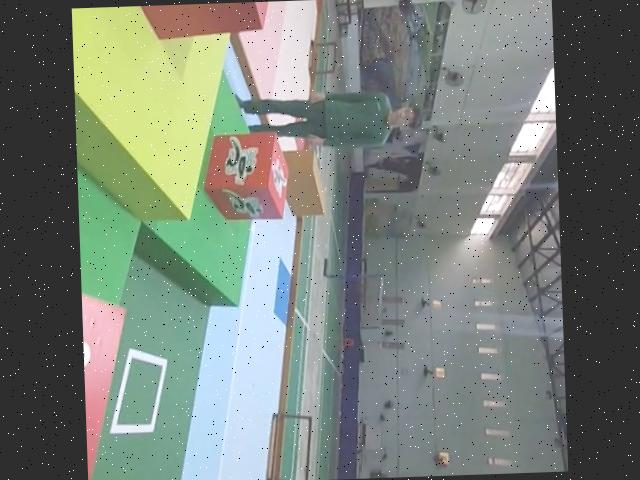R1: (198, 130, 294, 224)
R2 Fake: (93, 1, 284, 45)
R2 Real: (80, 263, 145, 480)
